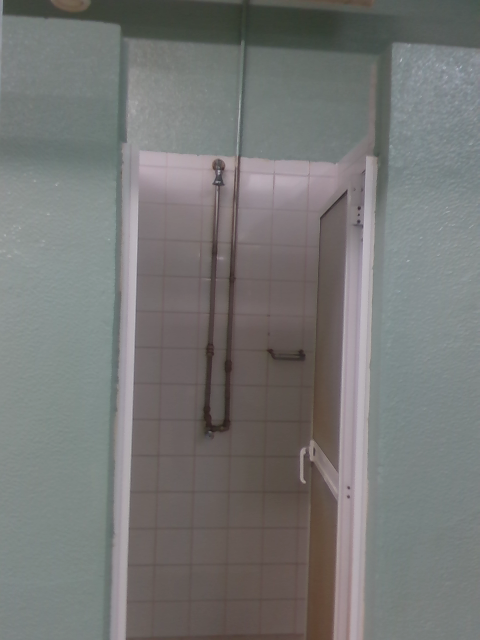open: (305, 152, 378, 636)
